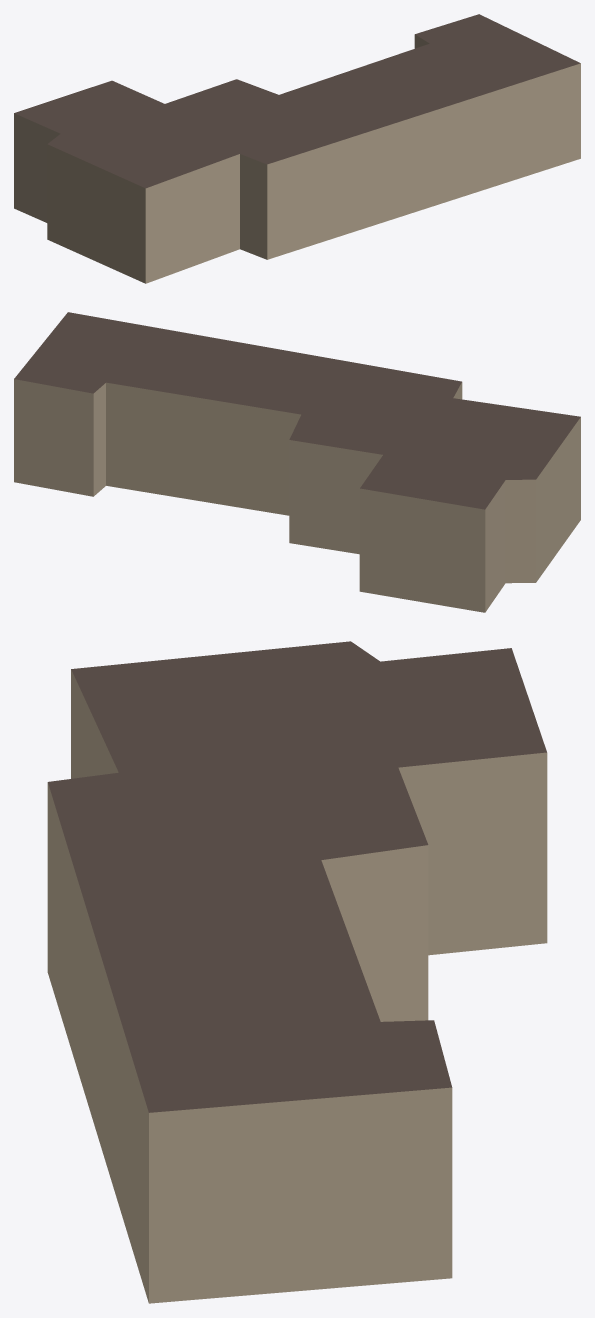
3 views of the same model, one above another, from view 1: azimuth 30°, elevation 25°; view 2: azimuth 150°, elevation 25°; view 3: azimuth 270°, elevation 25° (orthographic). The views are drawn at different scales.
Parts seen in each view (by area): view 1: HP-w191025884; view 2: HP-w191025884; view 3: HP-w191025884.
Boxes of the visible parts, box(x1,y1,x2,y2) form: HP-w191025884: box(14, 14, 580, 283); HP-w191025884: box(14, 312, 580, 612); HP-w191025884: box(47, 641, 547, 1303).
Bounding box in the file's own units: 47.71 × 9 × 21.35.
